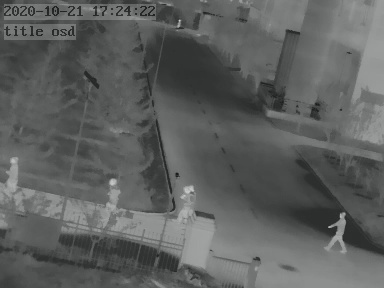person: (176, 181, 199, 224), (327, 205, 347, 253), (104, 175, 120, 224), (4, 155, 21, 196), (175, 18, 181, 31)
